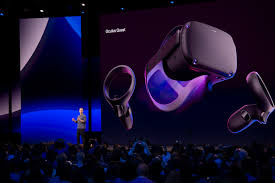oculus: (163, 21, 241, 90)
